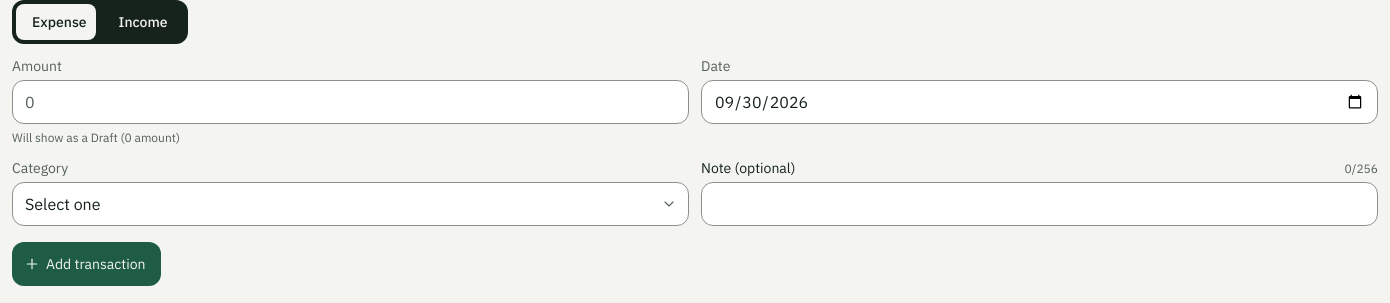
it: TransactionForm draft hint › hides the Draft hint once a non-zero amount is entered
Expected: the text "Will show as a Draft (0 amount)" is shown, 12,130 -> 180,145
Type ".01" into the field labelled "Amount" at (350, 102), box 12,80 -> 689,124
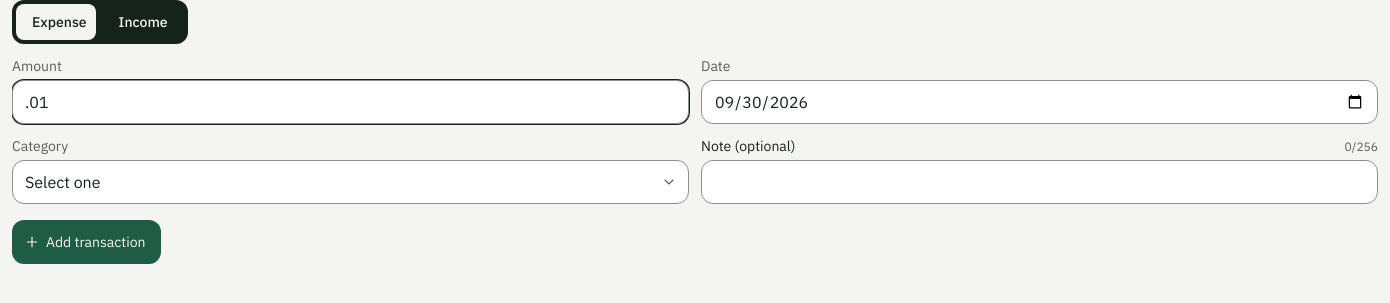
Expected: the text "Will show as a Draft" is gone
